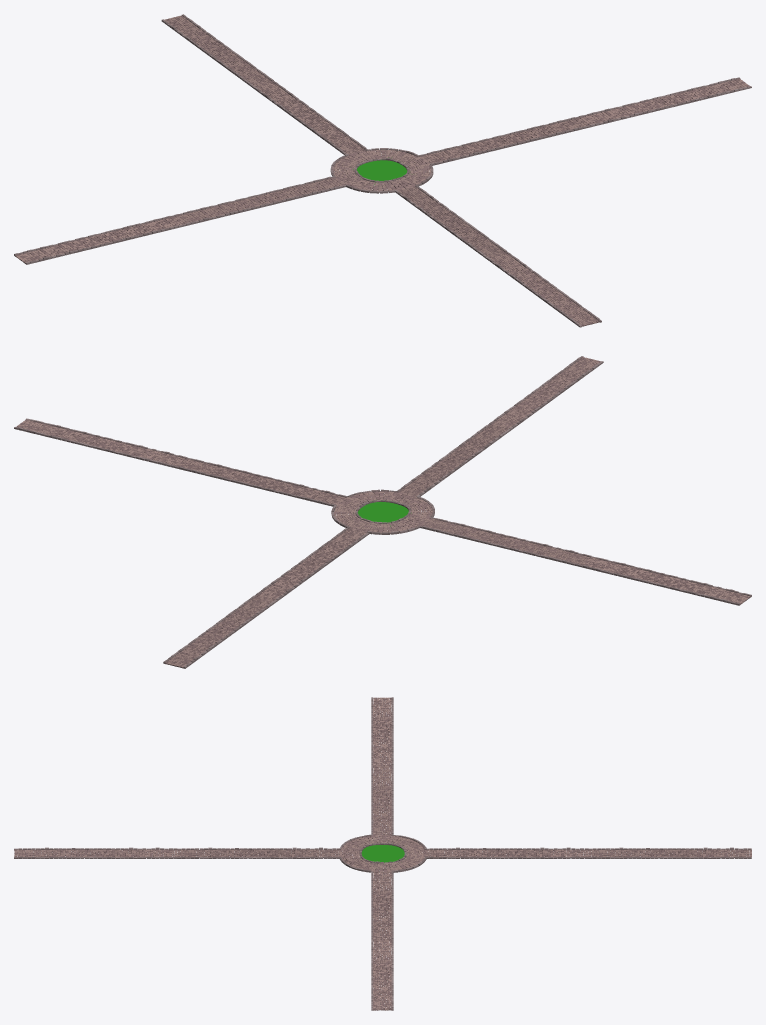
Rendered from Croisement nature harmony.fbx.
The picture shows the model from 3 angles, top to bottom: view 1: azimuth 30°, elevation 25°; view 2: azimuth 150°, elevation 25°; view 3: azimuth 270°, elevation 25°; orthographic projection. The views are drawn at different scales.
Visible parts, largest first — view 1: Plane; view 2: Plane; view 3: Plane.
Boxes of the visible parts, x1,y1,x2,y2 form: Plane: (14, 14, 751, 327); Plane: (14, 356, 751, 668); Plane: (14, 697, 751, 1010).
Size of the model in its own units: 19892 by 57.41 by 19876.
